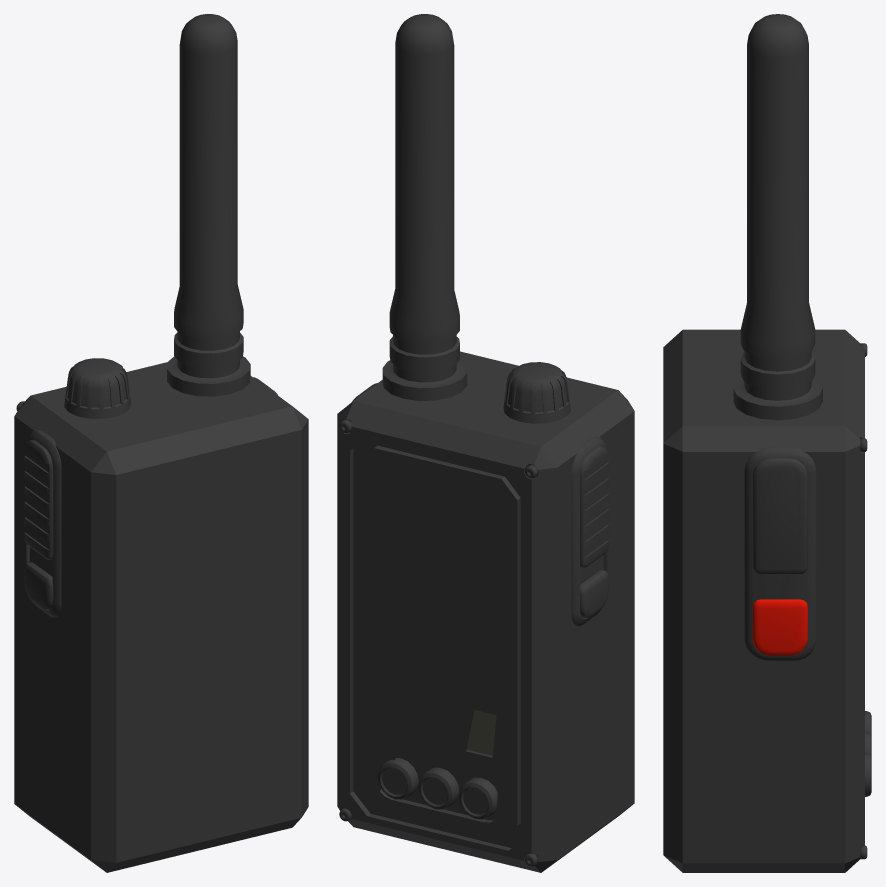
File: MUZON.fbx
3 renders of one model, left to right at view 1: azimuth 30°, elevation 25°; view 2: azimuth 150°, elevation 25°; view 3: azimuth 270°, elevation 25°, orthographic. The views are drawn at different scales.
Parts seen in each view (by area): view 1: Cube, Cylinder, Cylinder.001, Cube.003, Cube.001, Cube.004; view 2: Cube, Cylinder, Cylinder.001, Cube.003, Cube.001, Cube.009, Cube.013, Cube.014, Cube.004, Cube.011; view 3: Cube, Cylinder, Cube.006, Cube.007, Cube.005.
Part boxes in pixels (x1,y1,x2,y2): Cube: [14, 362, 308, 872]; Cylinder: [167, 14, 250, 396]; Cylinder.001: [64, 358, 130, 418]; Cube.003: [24, 440, 53, 559]; Cube.001: [26, 429, 61, 617]; Cube.004: [24, 562, 53, 609]; Cube: [337, 351, 634, 872]; Cylinder: [382, 14, 467, 400]; Cylinder.001: [503, 362, 570, 423]; Cube.003: [580, 446, 608, 567]; Cube.001: [571, 436, 607, 626]; Cube.009: [418, 767, 459, 809]; Cube.013: [377, 758, 418, 799]; Cube.014: [459, 777, 497, 819]; Cube.004: [580, 570, 608, 618]; Cube.011: [466, 710, 496, 755]; Cube: [663, 329, 864, 872]; Cylinder: [733, 14, 822, 420]; Cube.006: [753, 458, 807, 573]; Cube.007: [744, 447, 816, 661]; Cube.005: [753, 599, 807, 655].
Bounding box in the file's own units: 2.07 × 6.55 × 1.49.
